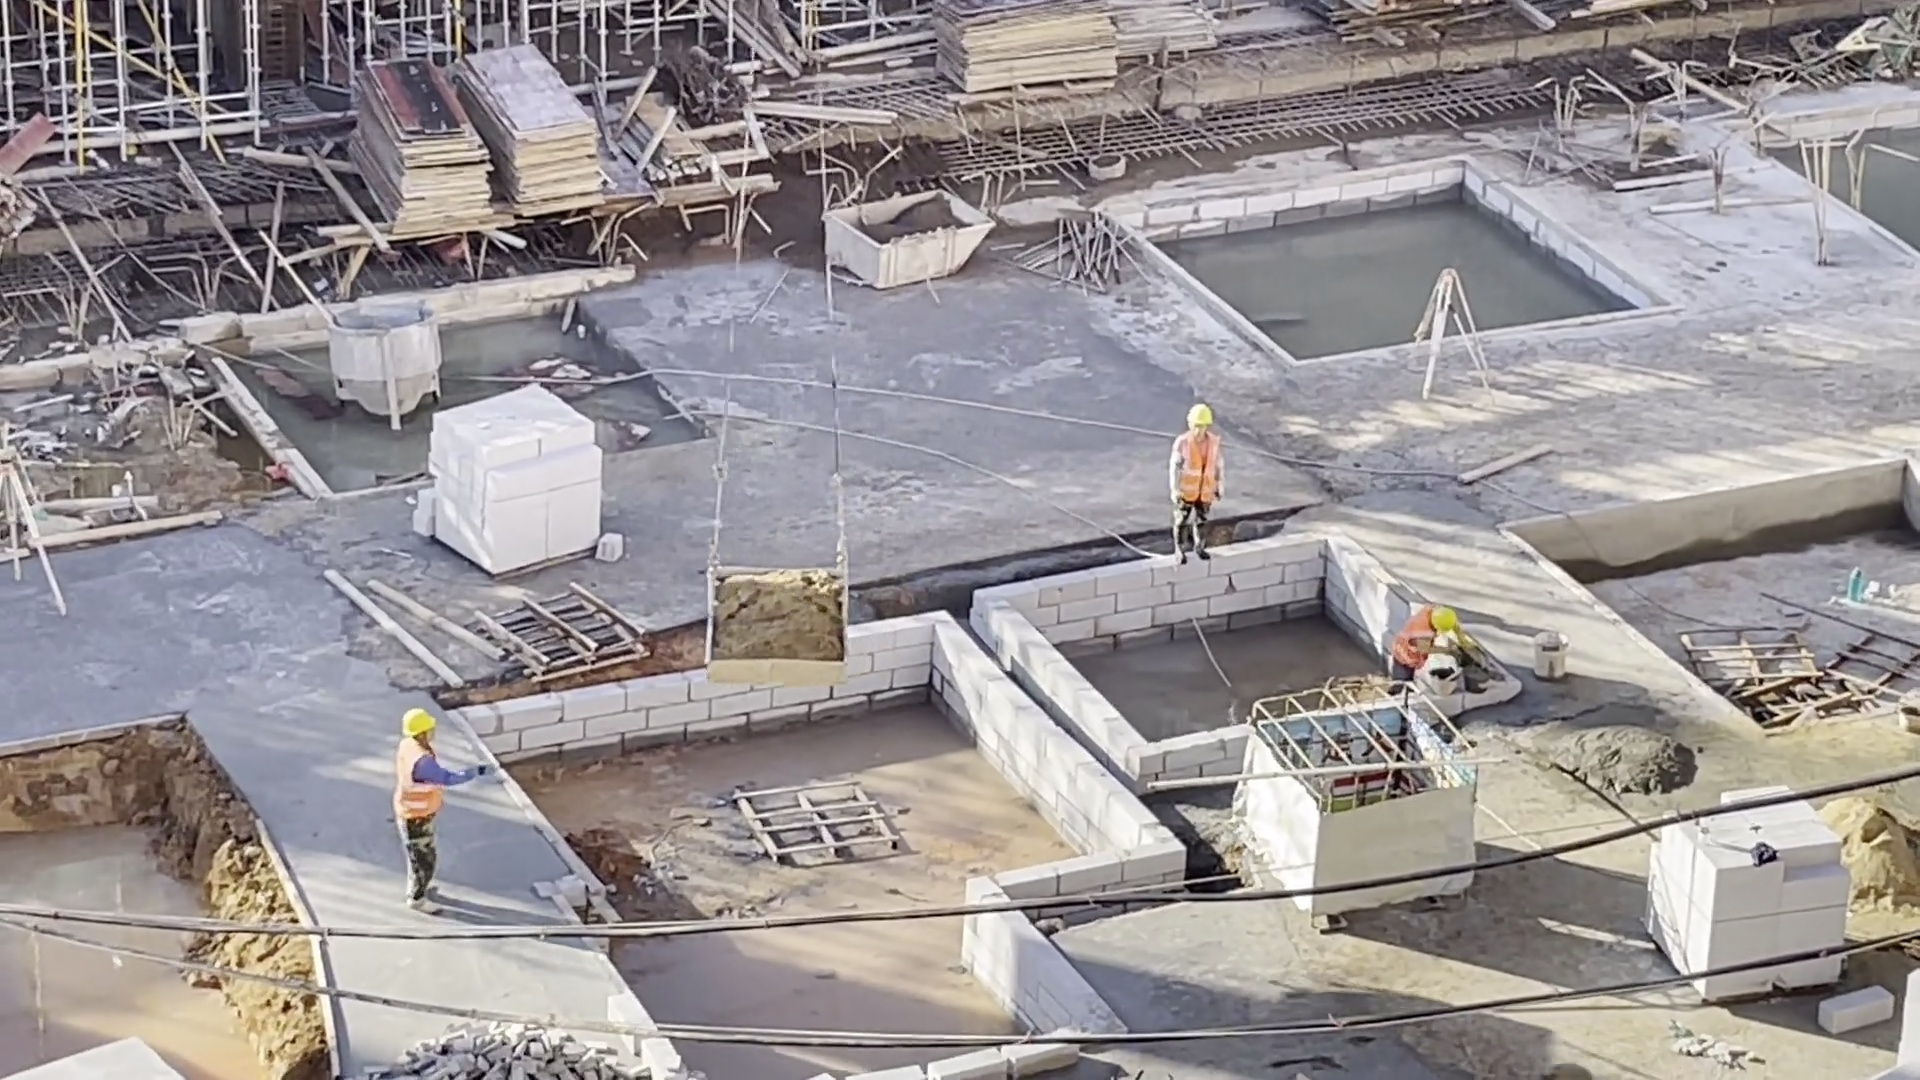board: (458, 38, 617, 215), (345, 54, 492, 241), (925, 4, 1129, 106)
brick: (430, 379, 608, 580), (1638, 831, 1854, 958)
helmet: (399, 711, 440, 739), (1429, 605, 1458, 635), (1184, 405, 1213, 426)
hopper: (692, 561, 855, 704), (817, 183, 999, 295), (321, 300, 448, 434)
person: (389, 708, 506, 919), (1166, 401, 1231, 565), (1378, 599, 1471, 701)
vest: (392, 737, 450, 820), (1174, 431, 1221, 505), (1390, 605, 1436, 667)
